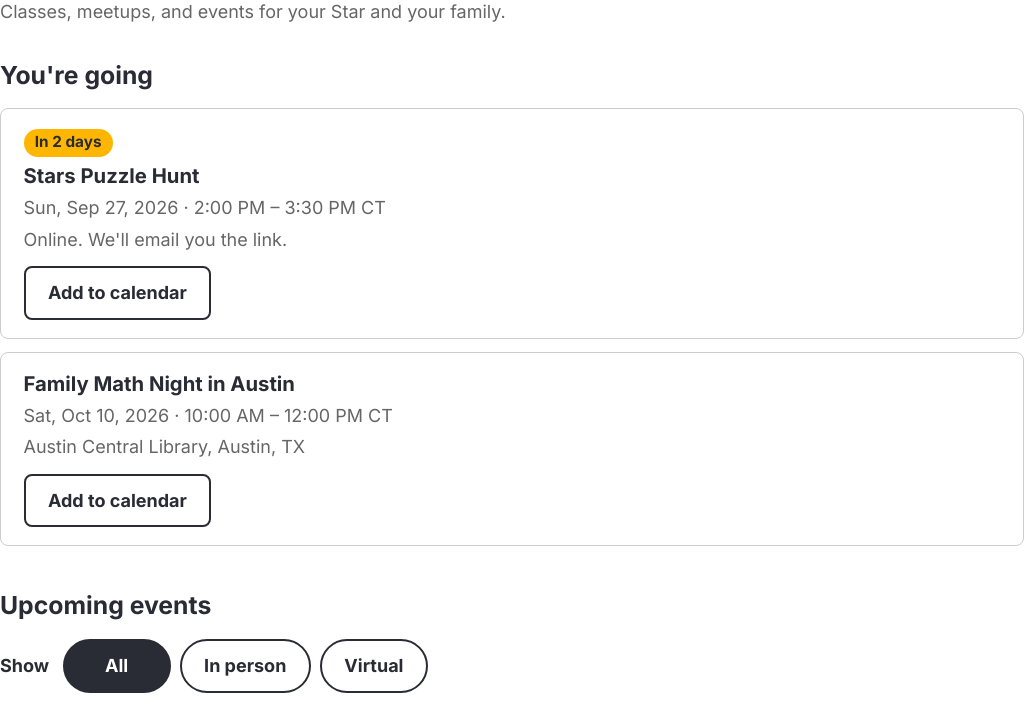
Test: EventsTab › narrows the list with the format filter
This screenshot has width=1024, height=718.
Click the button "In person".
click(245, 666)  # box [180,639,311,693]
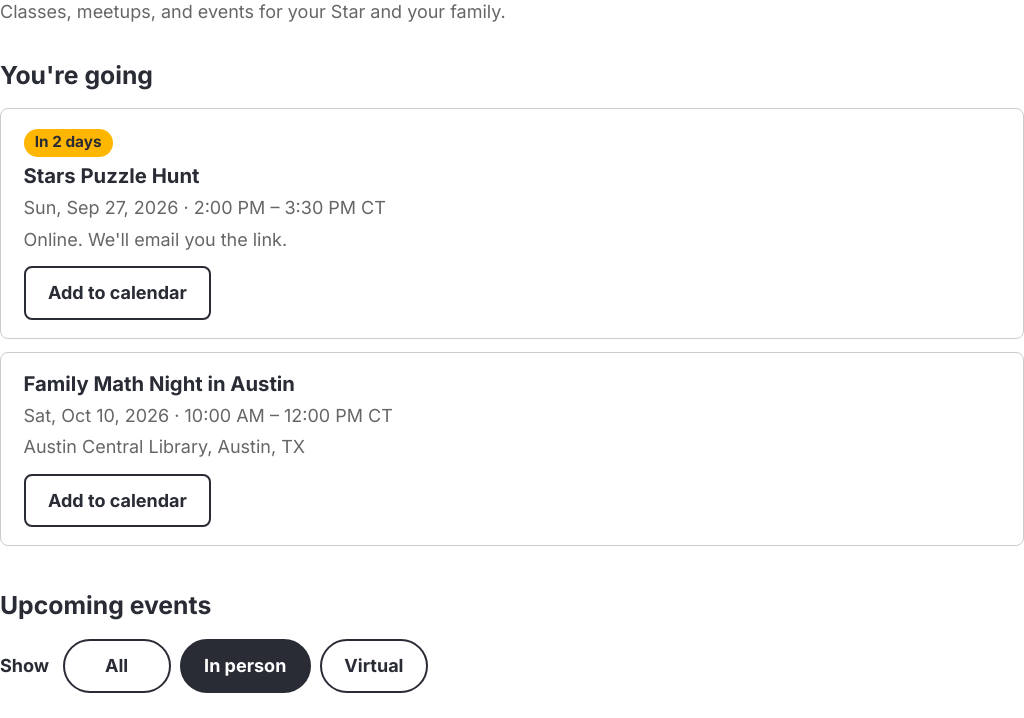
Check: the text "Parent Q&A: Is grade skipping right for my child?" is not shown
Check: the button "In person" is pressed, box [180,639,311,693]
Check: the button "All" is not pressed, box [63,639,171,693]
Click the button "Virtual".
click(374, 666)  # box [320,639,428,693]
(page scrolled)
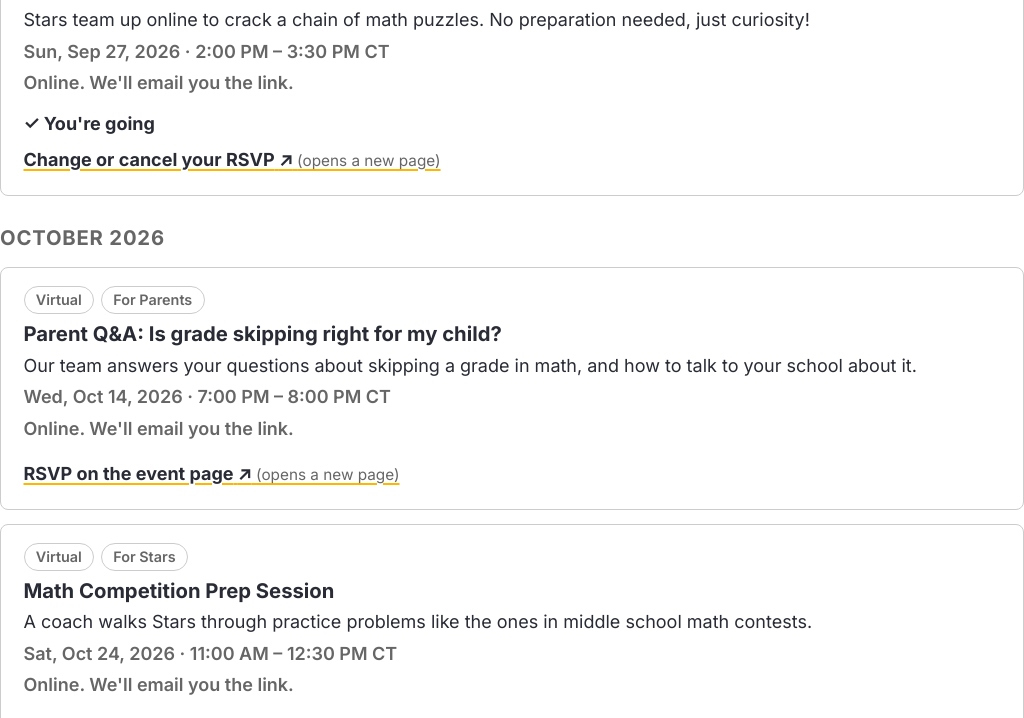
Check: the text "Family Math Night in Austin" is not shown
Check: the heading "Parent Q&A: Is grade skipping right for my child?" is shown, box [24,321,502,346]
